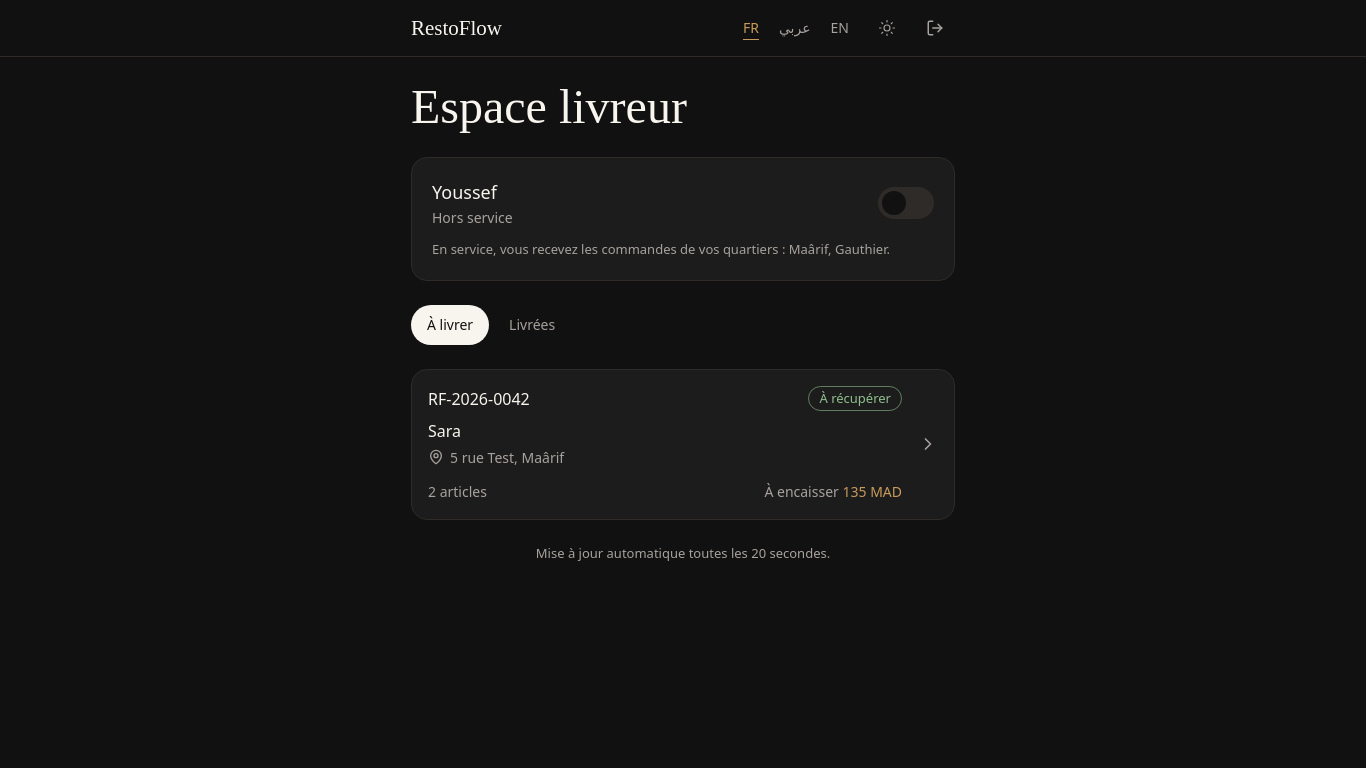
courier app › goes on duty
The image size is (1366, 768).
Expected: the text "Maârif, Gauthier" is shown, [432,240,890,258]
Click the switch named "En service" at point(906, 203), box [878,187,934,219]
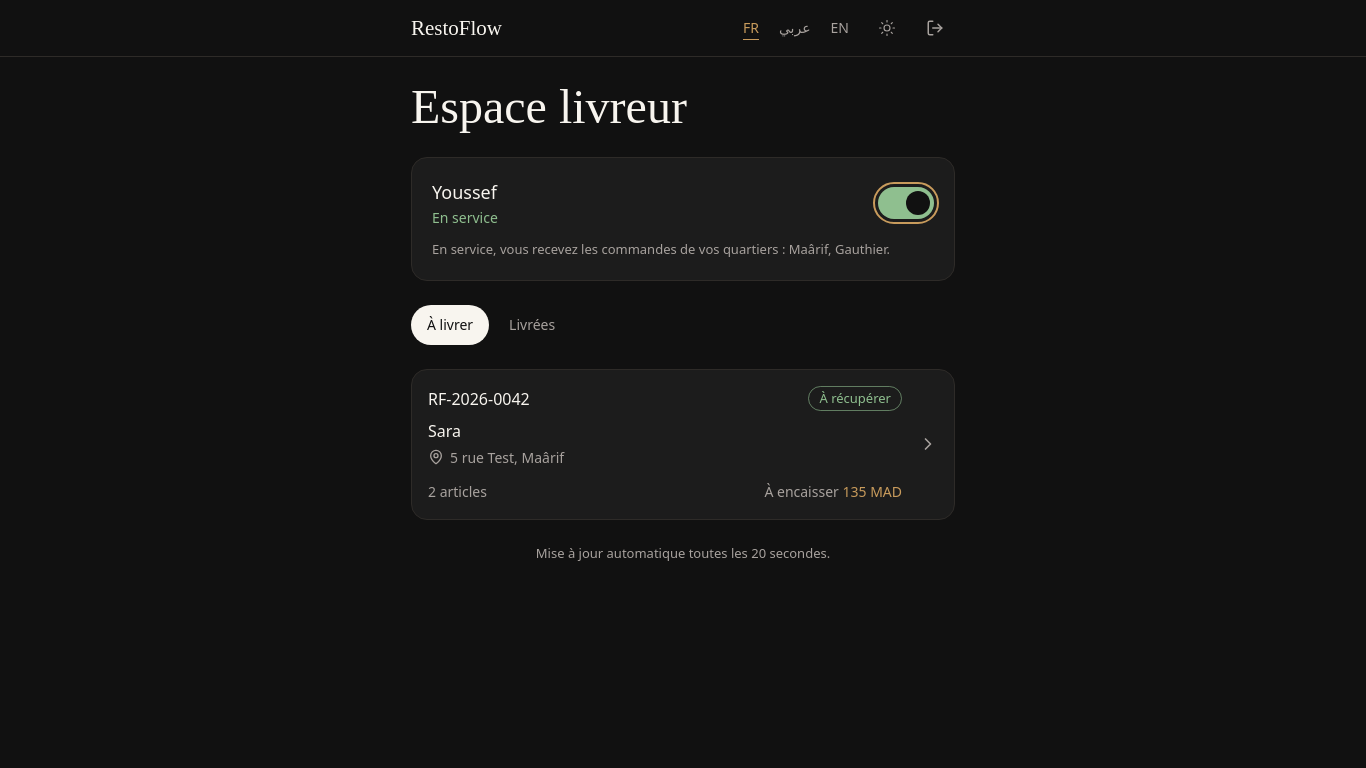
Now the switch named "En service" is checked, box [878,187,934,219]
